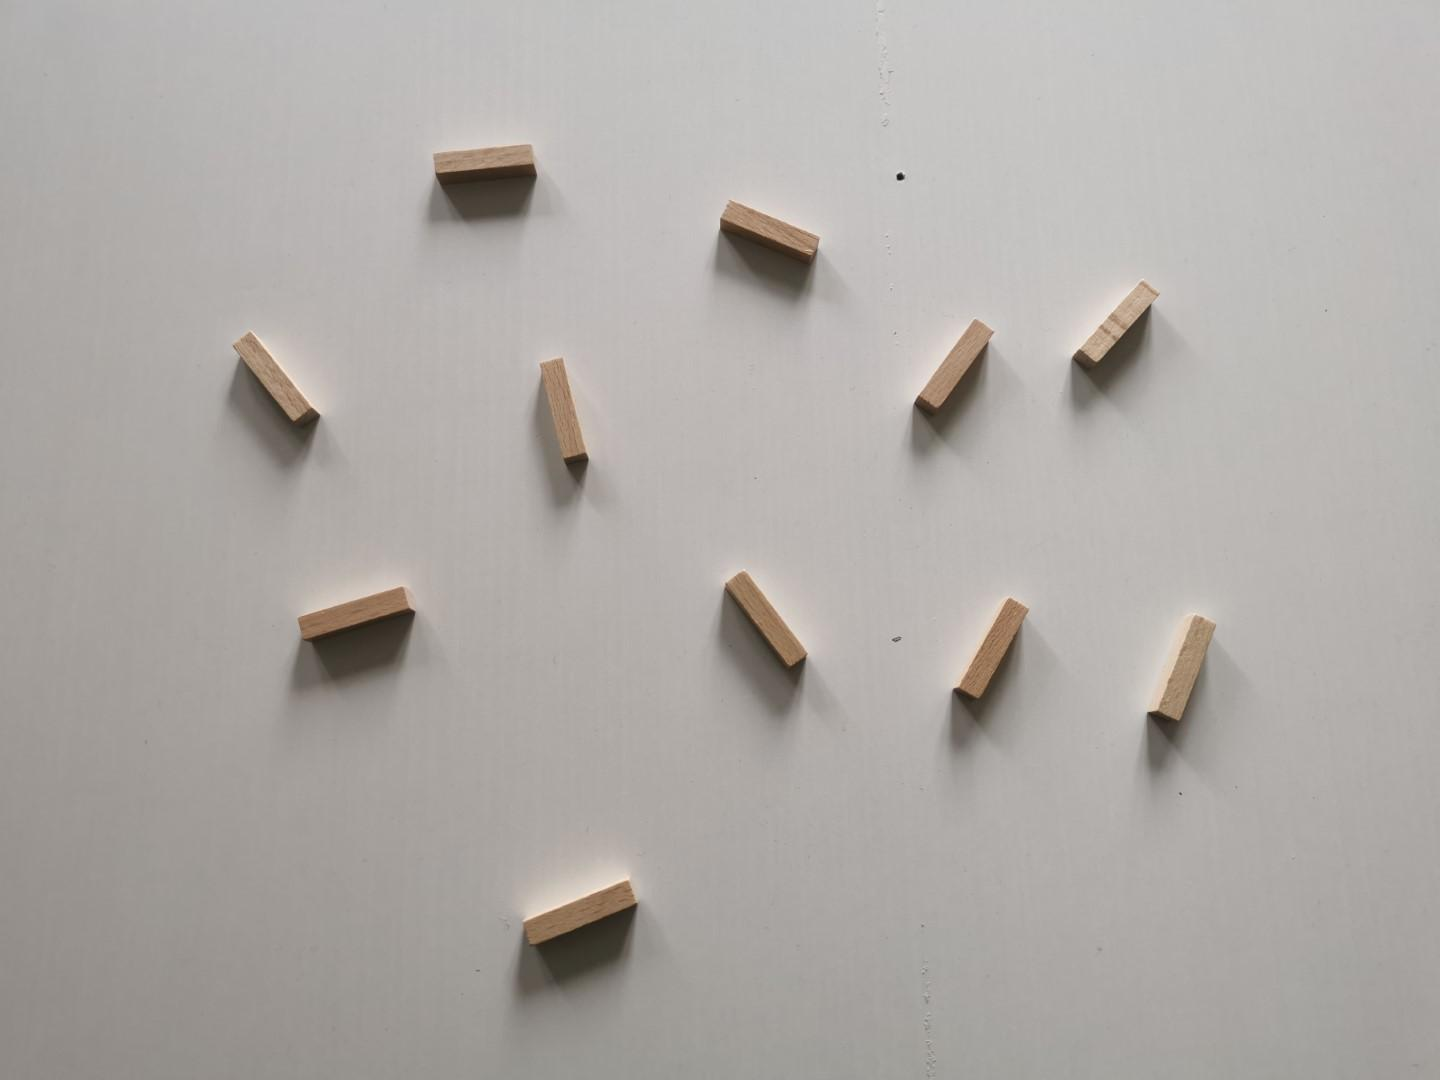jenga: (232, 331, 317, 425), (726, 571, 806, 667), (955, 598, 1031, 699), (916, 318, 996, 413), (1076, 279, 1161, 368), (523, 881, 636, 946), (1150, 615, 1218, 722), (296, 587, 413, 640), (721, 200, 821, 262), (540, 356, 588, 463), (433, 142, 537, 183)
